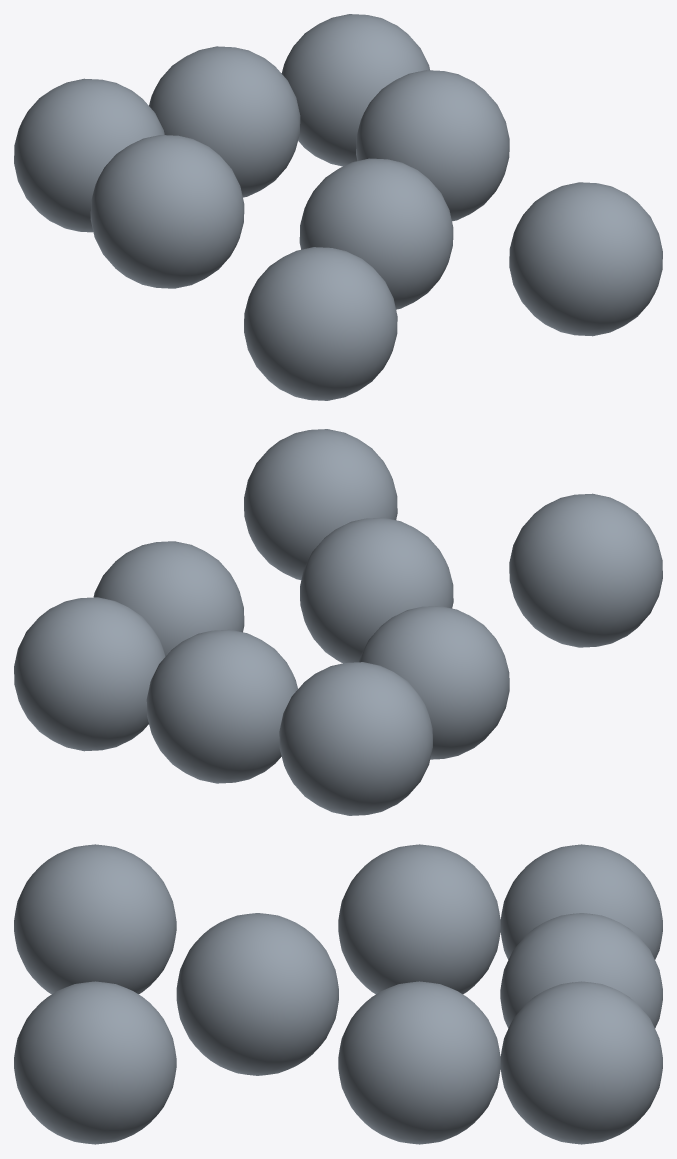
The picture shows the model from 3 angles, top to bottom: view 1: azimuth 30°, elevation 25°; view 2: azimuth 150°, elevation 25°; view 3: azimuth 270°, elevation 25°; orthographic projection. The views are drawn at different scales.
Parts seen in each view (by area): view 1: GeoSphere617; view 2: GeoSphere617; view 3: GeoSphere617.
Part boxes in pixels (left/top/right/bottom): GeoSphere617: left=14, top=14, right=662, bottom=400; GeoSphere617: left=14, top=429, right=662, bottom=815; GeoSphere617: left=14, top=844, right=662, bottom=1144.
Size of the model in its own units: 119 by 40 by 159.
1 material, 1 textured.
